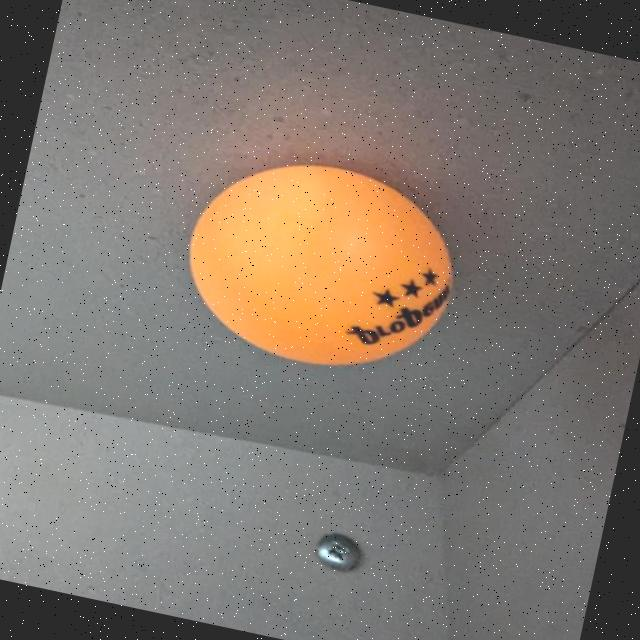ping-pong-ball: (154, 128, 478, 404)
